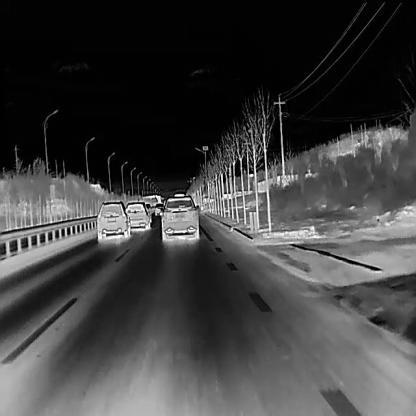car: (159, 193, 199, 243), (95, 199, 129, 242), (124, 200, 150, 230), (153, 202, 164, 216)
